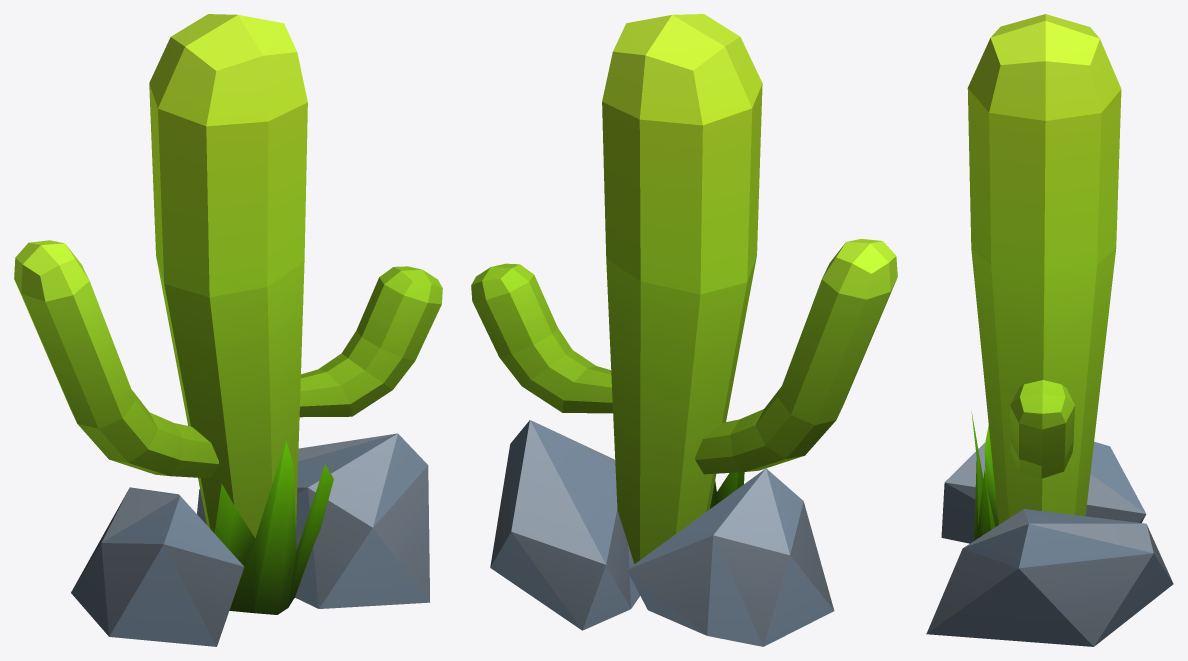
File: cactus.fbx
3 renders of one model, left to right at view 1: azimuth 30°, elevation 25°; view 2: azimuth 150°, elevation 25°; view 3: azimuth 270°, elevation 25°, orthographic. The views are drawn at different scales.
Visible parts, largest first — view 1: Icosphere.010; view 2: Icosphere.010; view 3: Icosphere.010.
Part boxes in pixels (x1,y1,x2,y2): Icosphere.010: (14,14,442,646); Icosphere.010: (471,14,897,646); Icosphere.010: (926,14,1173,646).
Size of the model in its own units: 200 by 264 by 107.
